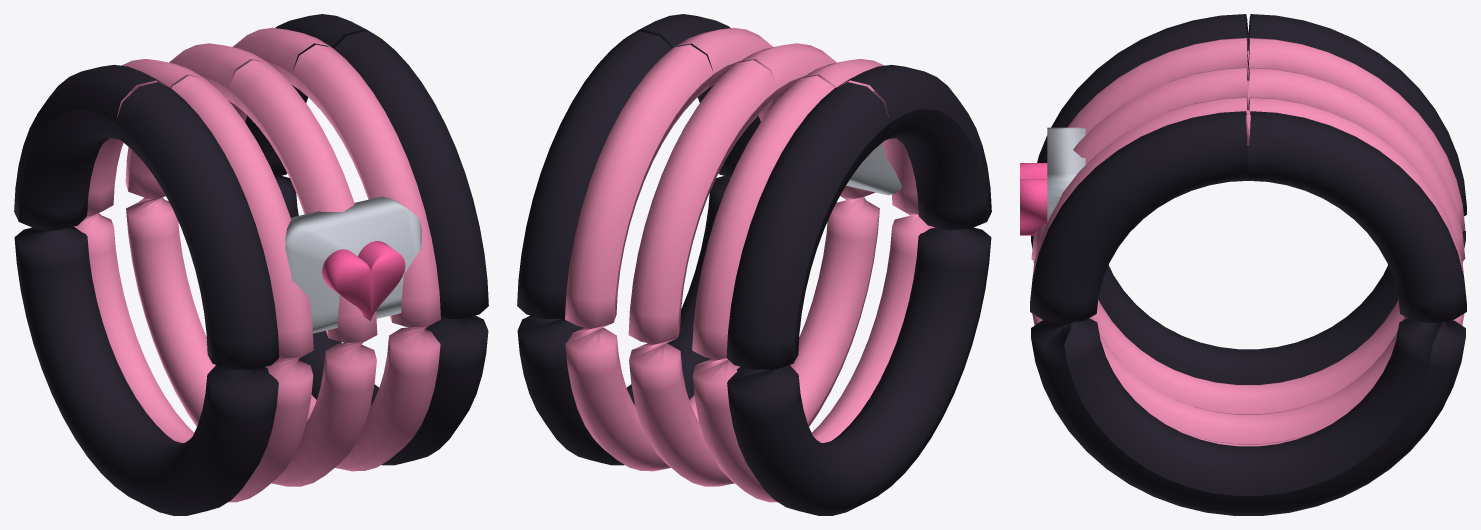
Rendered from pixel_left_wrist_cuff.glb.
3 views of the same model, side by side, from view 1: azimuth 30°, elevation 25°; view 2: azimuth 150°, elevation 25°; view 3: azimuth 270°, elevation 25° (orthographic). The views are drawn at different scales.
Visible parts, largest first — view 1: pixel_left_wrist_cuff; view 2: pixel_left_wrist_cuff; view 3: pixel_left_wrist_cuff.
Part boxes in pixels (bbox=[...]): pixel_left_wrist_cuff: bbox=[14, 14, 488, 515]; pixel_left_wrist_cuff: bbox=[517, 14, 991, 515]; pixel_left_wrist_cuff: bbox=[1020, 14, 1466, 515].
Bounding box in the file's own units: 0.094 × 0.1368 × 0.1399.
